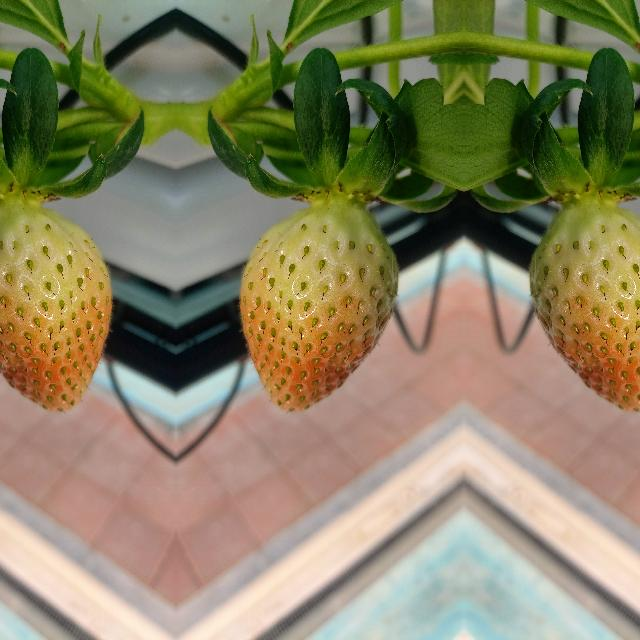Health_50: (236, 202, 398, 414), (0, 202, 114, 413), (528, 202, 640, 413)
